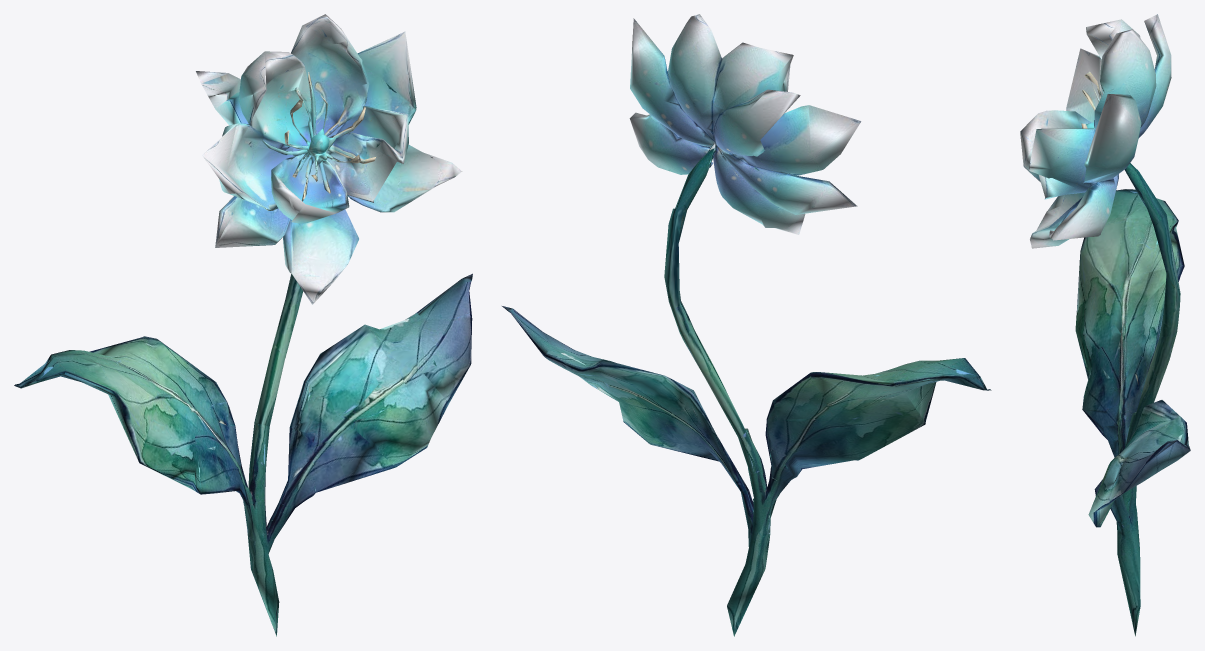
The model's file is flor2.glb.
3 views of the same model, side by side, from view 1: azimuth 30°, elevation 25°; view 2: azimuth 150°, elevation 25°; view 3: azimuth 270°, elevation 25° (orthographic). The views are drawn at different scales.
Parts seen in each view (by area): view 1: flor2; view 2: flor2; view 3: flor2.
Part boxes in pixels (bbox=[...]): flor2: bbox=[14, 14, 472, 636]; flor2: bbox=[502, 14, 991, 636]; flor2: bbox=[1020, 14, 1190, 636].
Size of the model in its own units: 1.52 by 1.86 by 0.4596.
1 material, 1 textured.
